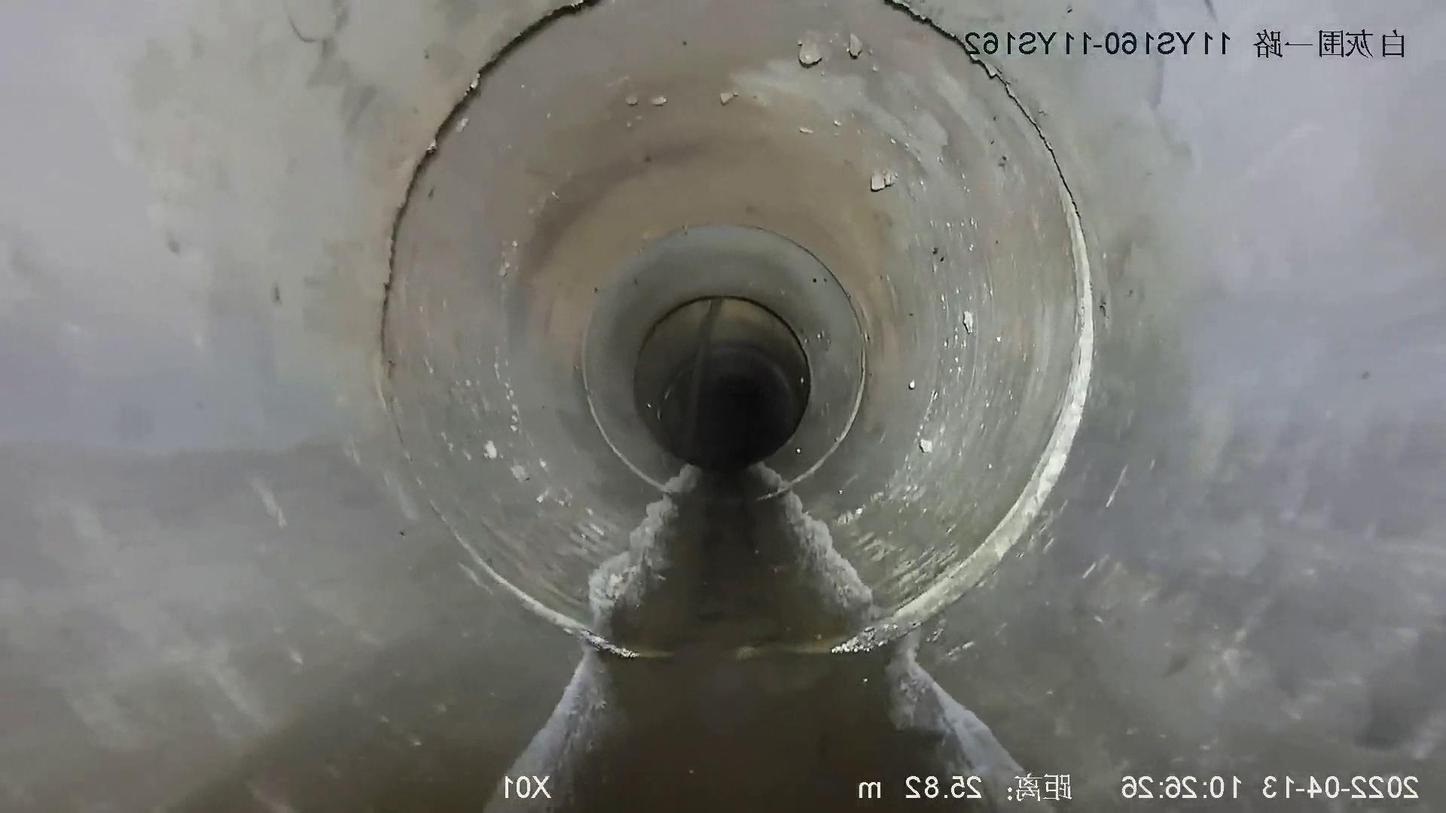CKTJ: (797, 178, 1094, 653), (455, 534, 657, 658), (575, 331, 676, 494), (770, 344, 868, 494)
